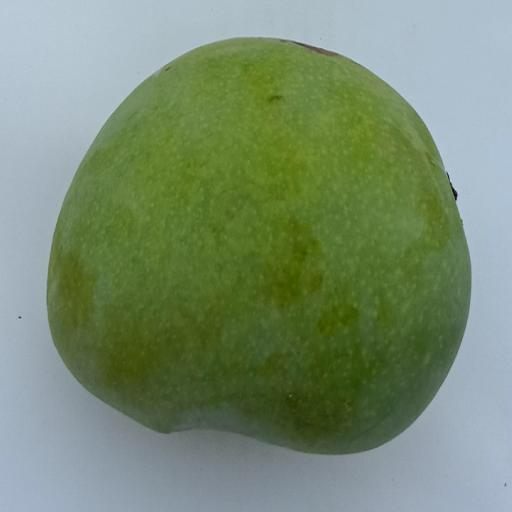mango-unripe: (0, 30, 483, 472)
